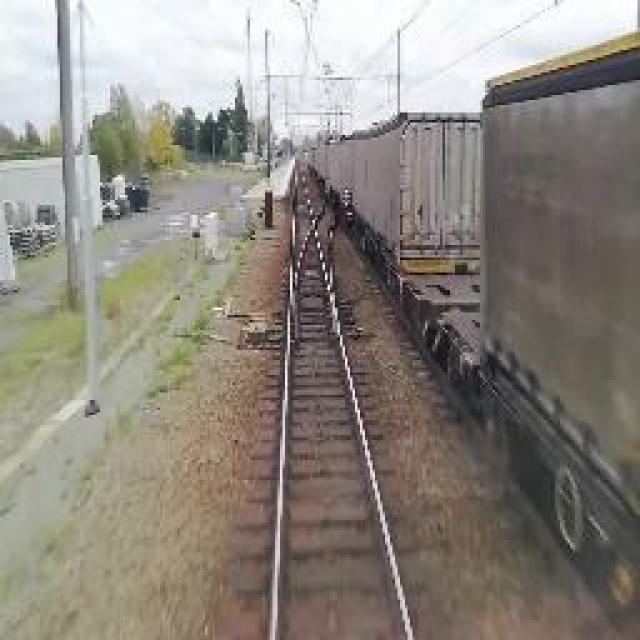rail: (247, 161, 450, 640)
